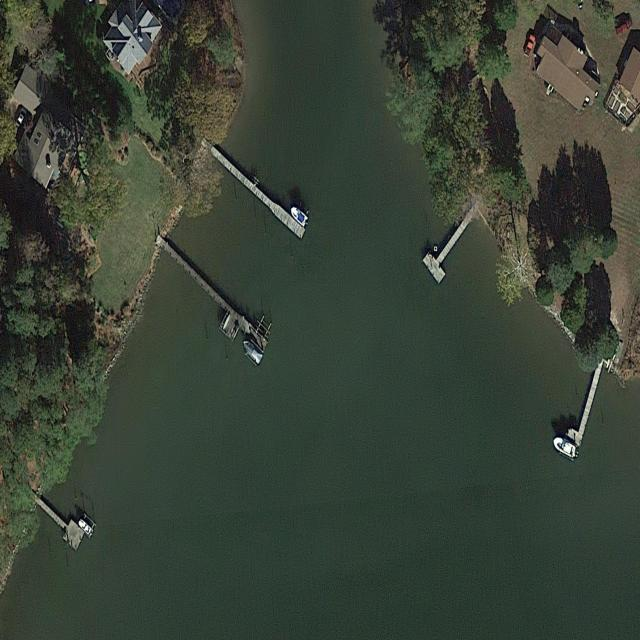ship: (551, 434, 578, 461), (241, 337, 263, 364), (289, 203, 309, 228), (77, 516, 94, 540)
small-vehicle: (14, 107, 28, 131), (615, 18, 633, 36), (523, 34, 536, 58)
